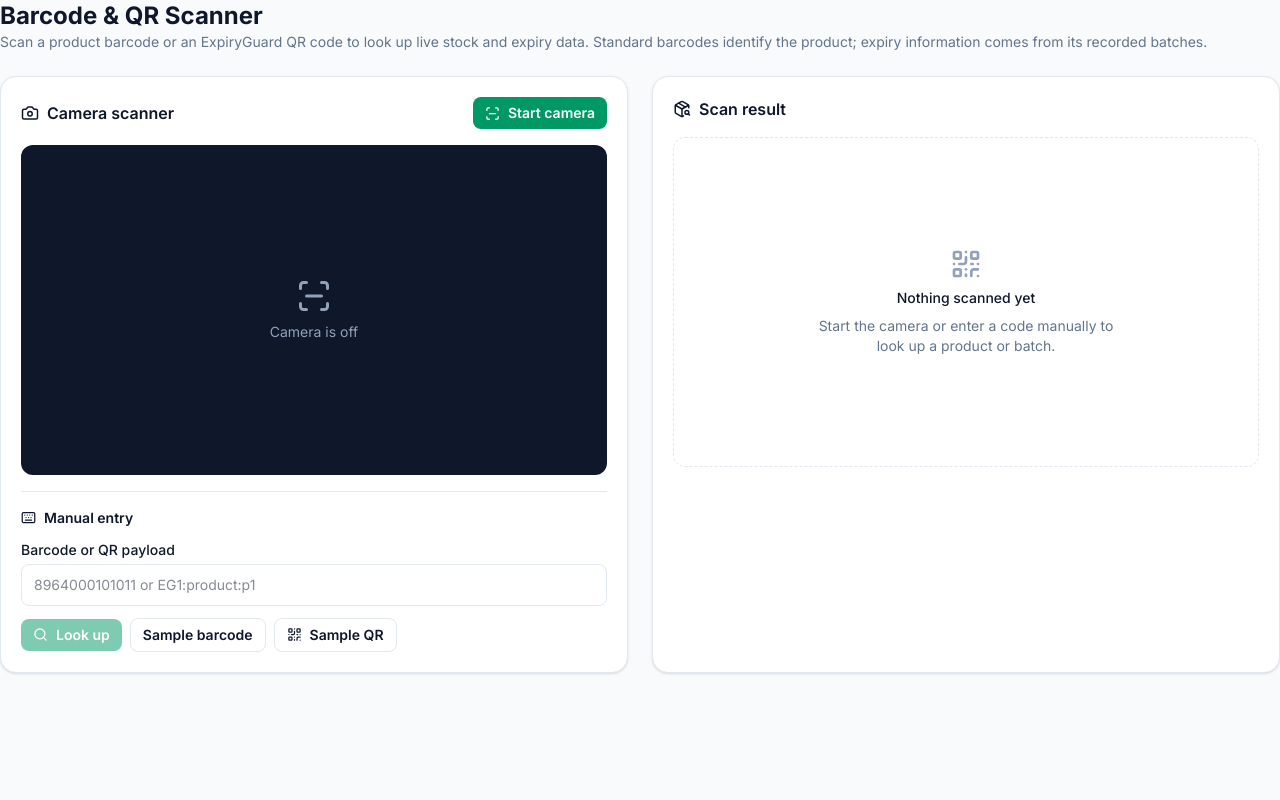
Test: ScannerPage › resolves an ExpiryGuard QR payload to a batch
Expected: the text "Nothing scanned yet" is shown, x1=897 y1=288 x2=1035 y2=308
Type "EG1:batch:b1" into the field labelled "Barcode or QR payload".
click(314, 585); type("EG1:batch:b1")  # box x1=21 y1=564 x2=607 y2=606
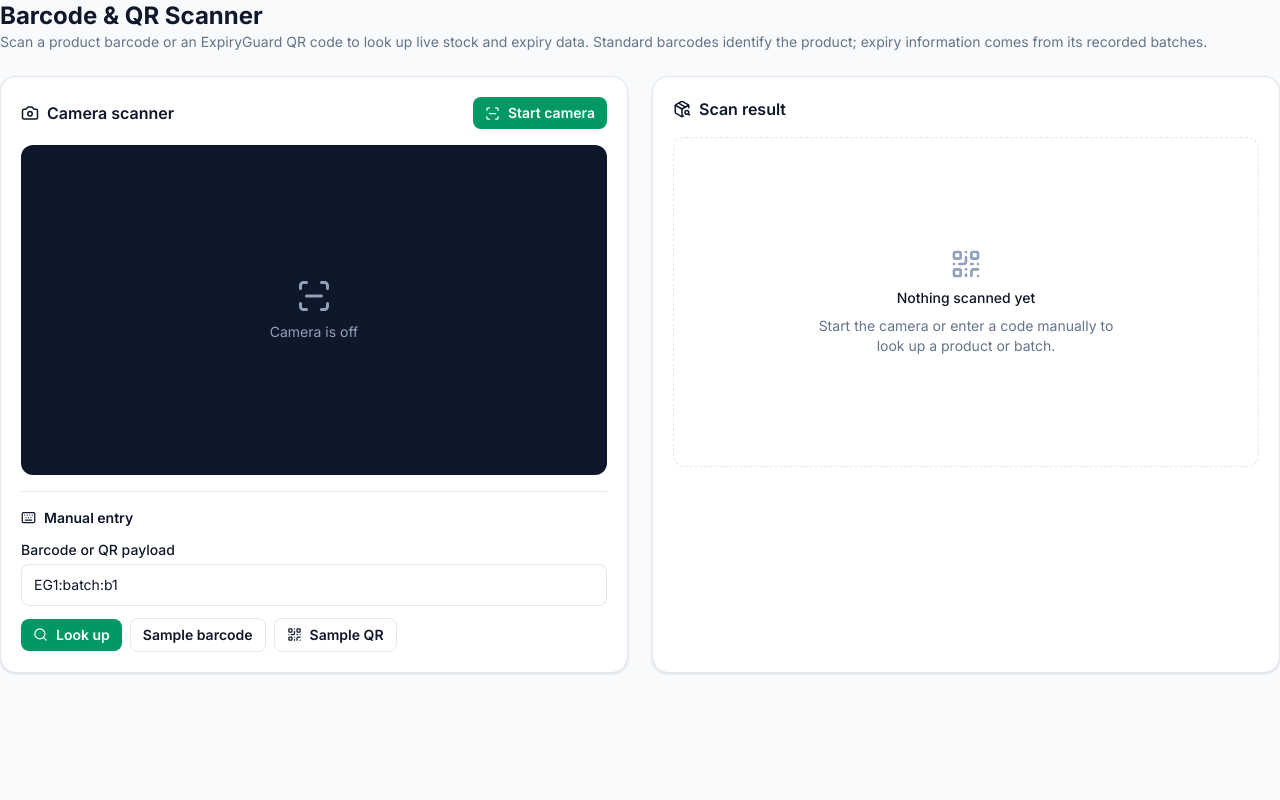
Click the button "Look up".
click(71, 635)  # box x1=21 y1=619 x2=122 y2=651
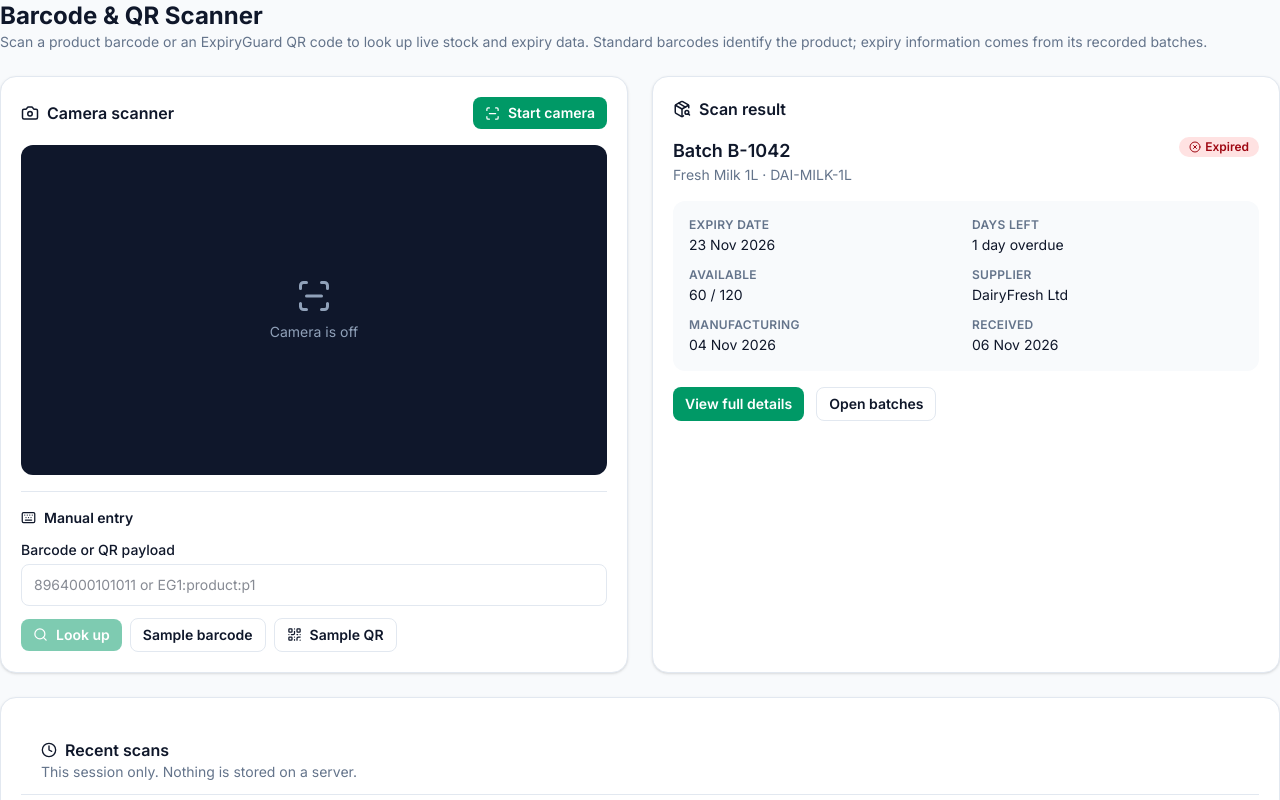
Result: the text "Batch B-1042" is shown at x1=673 y1=140 x2=790 y2=161
Result: the text "Fresh Milk 1L · DAI-MILK-1L" is shown at x1=673 y1=165 x2=852 y2=185
